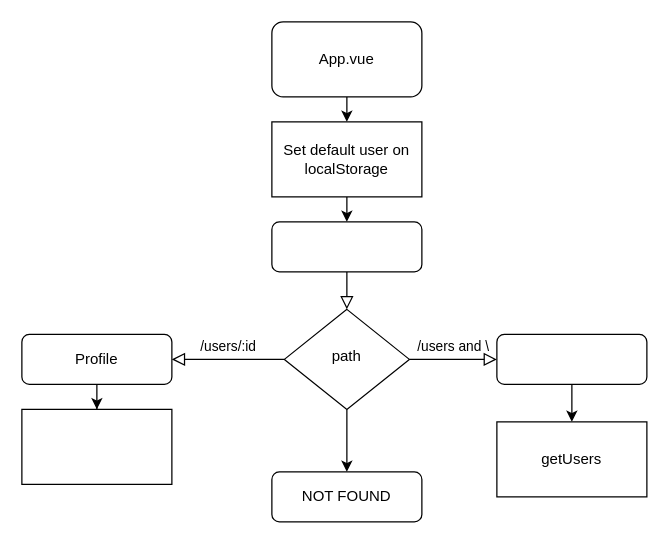
The diagram is 669 pixels wide and 544 high, and some of its shapes have lost their labels. The shapes that lost their labels are listed below. From the top down, each one's centre as x and y in pixels, then its label:
At (346,246): "Router".
At (571,358): "Home".
At (96,446): "getUser and getPosts".
